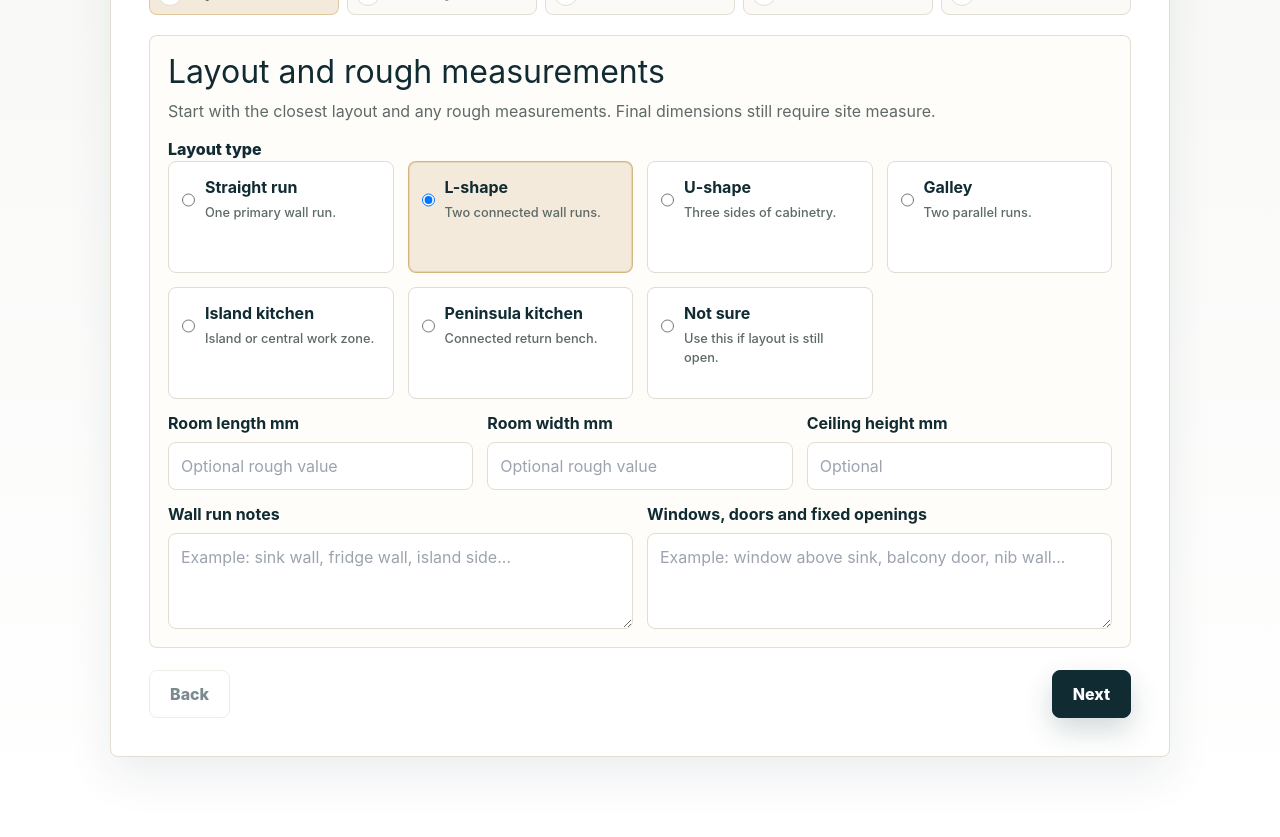
Scenario: ScopeBuilderPage › renders enabled local fields, validation and scope review output
Earlier steps of the test are not shown.
Later steps or results of the test are not shown.
(page scrolled)
Type "3400" into the field labelled "Room length mm" at (321, 466), box [168,442,473,490]
Type "2600" into the field labelled "Room width mm" at (640, 466), box [487,442,793,490]
Type "2400" into the field labelled "Ceiling height mm" at (959, 466), box [807,442,1112,490]
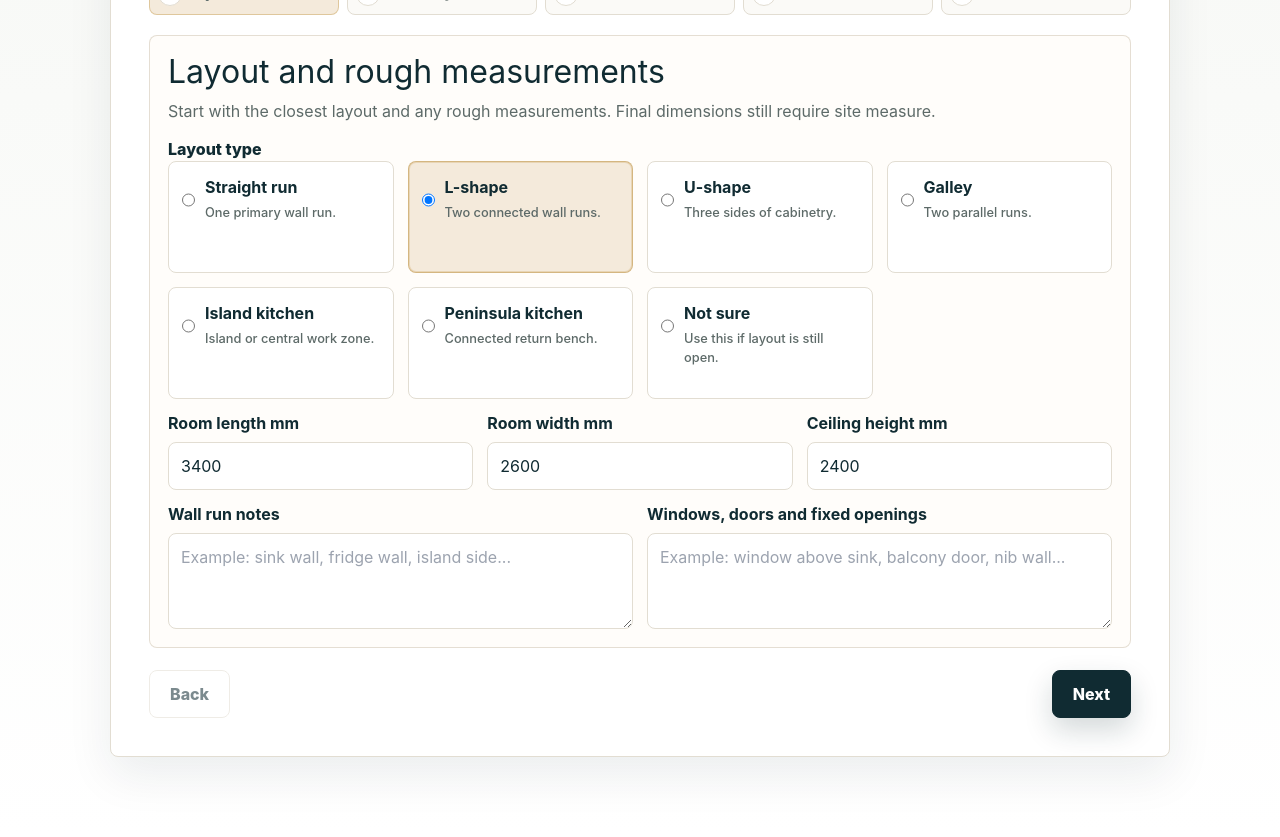
Type "Window above sink and doorway near fridge wall" into the text box labelled "Windows, doors and fixed openings" at (880, 581), box [647,533,1112,629]
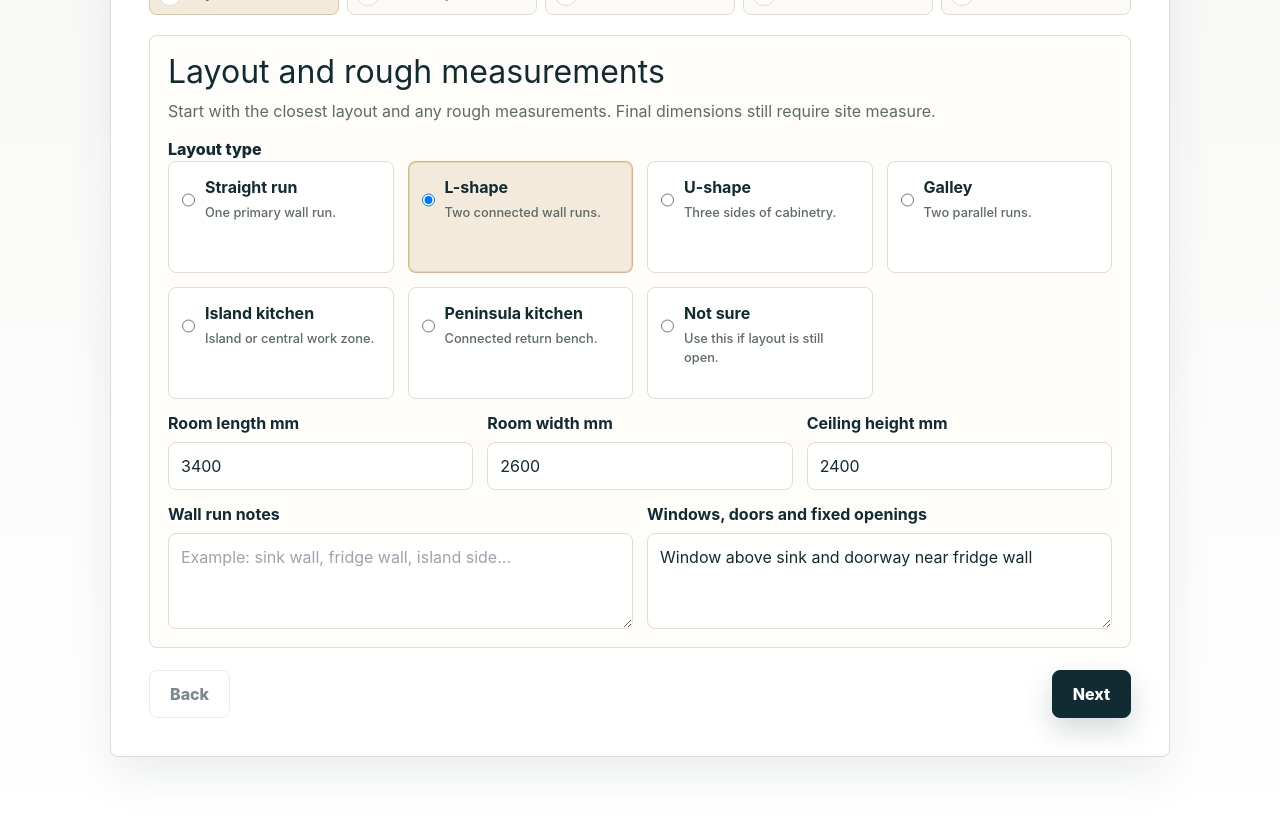
Click the button "Next" at (1091, 694), box [1052,670,1131,718]
(page scrolled)
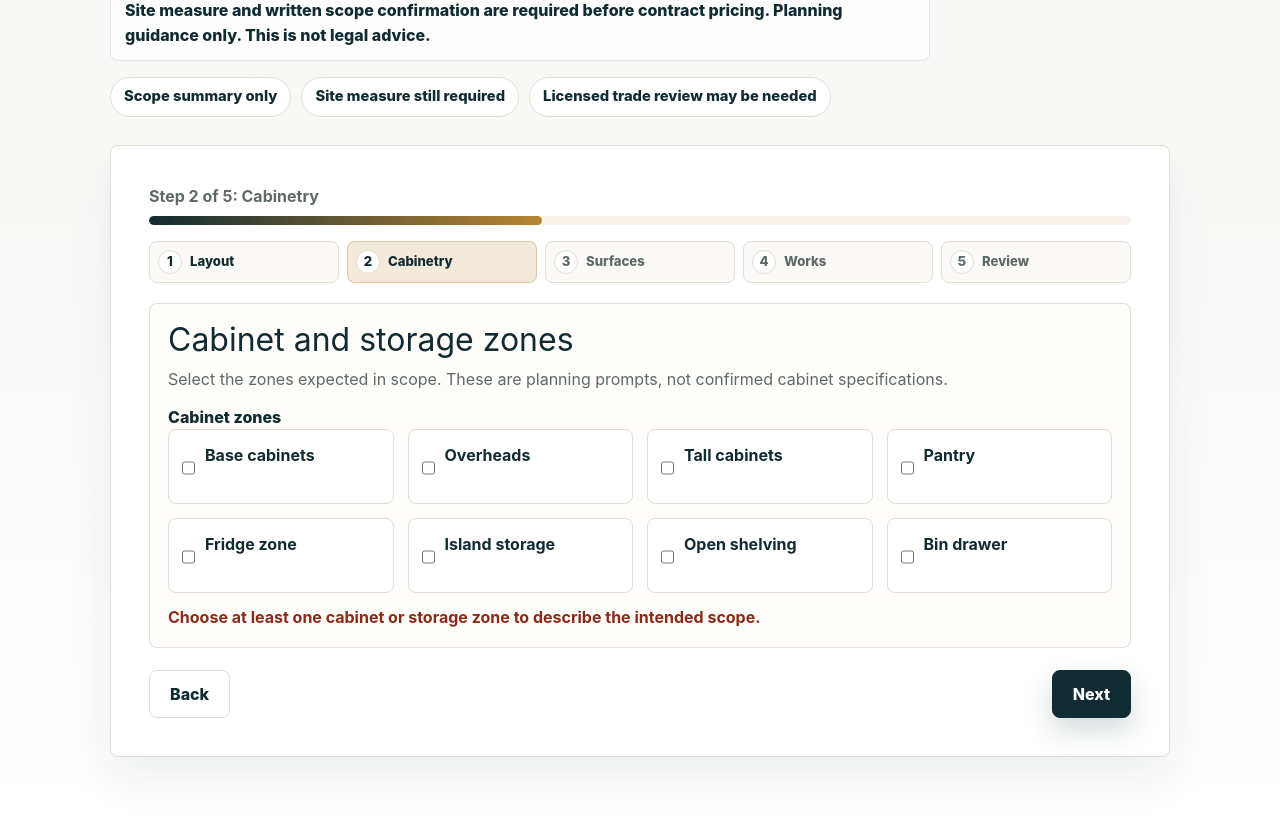
Expected: the heading "Cabinet and storage zones" is shown, [168,320,574,358]
Click the checkbox labelled "Base cabinets" at (188, 468), box [182,446,195,490]
(page scrolled)
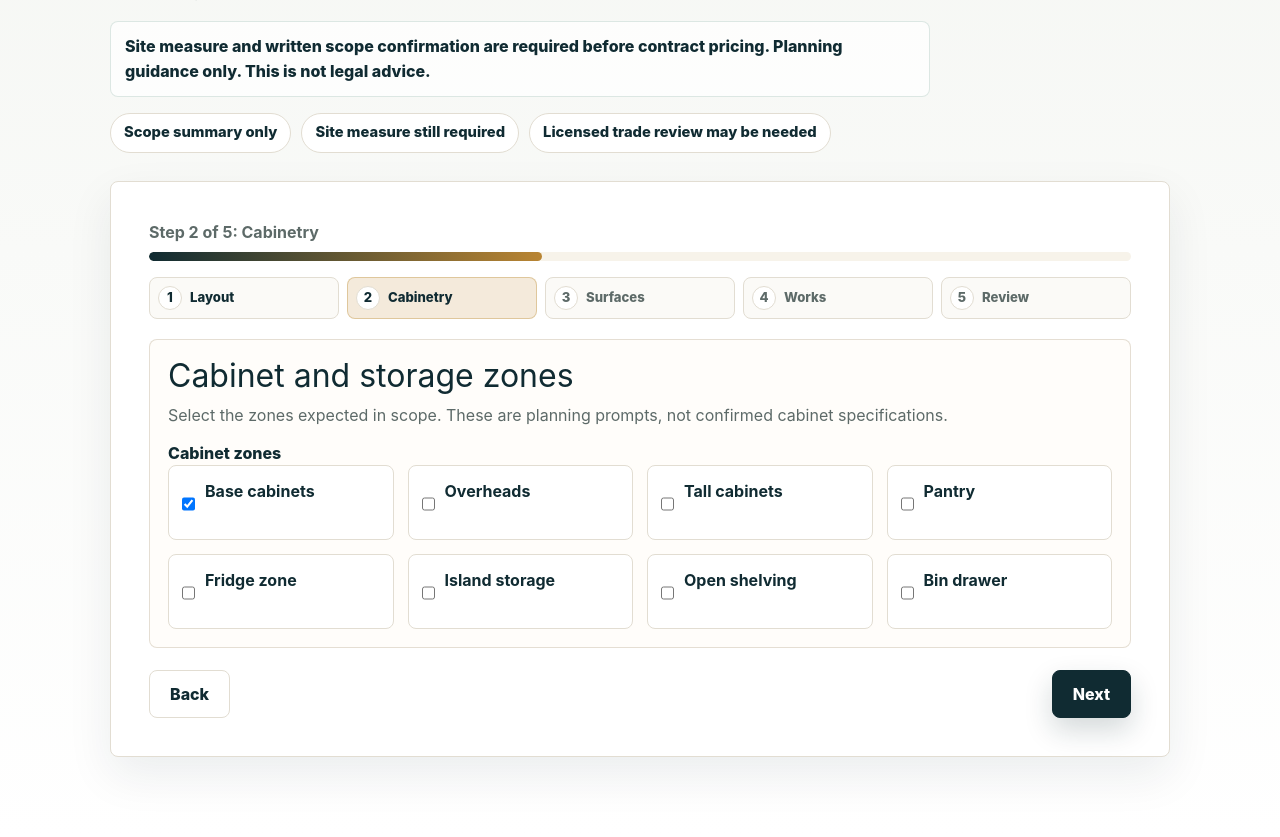
Click the checkbox labelled "Pantry" at (907, 504), box [900,482,914,526]
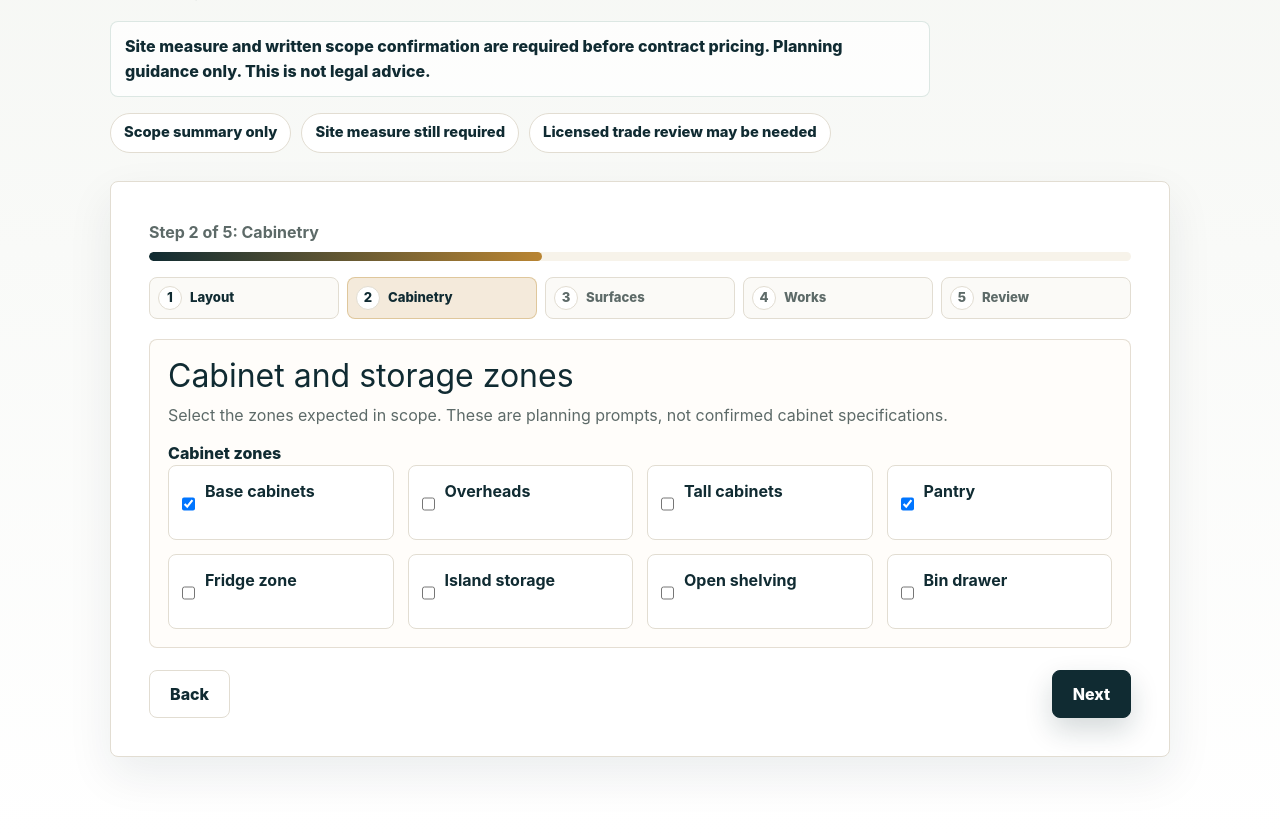
Click the button "Next" at (1091, 694), box [1052,670,1131,718]
(page scrolled)
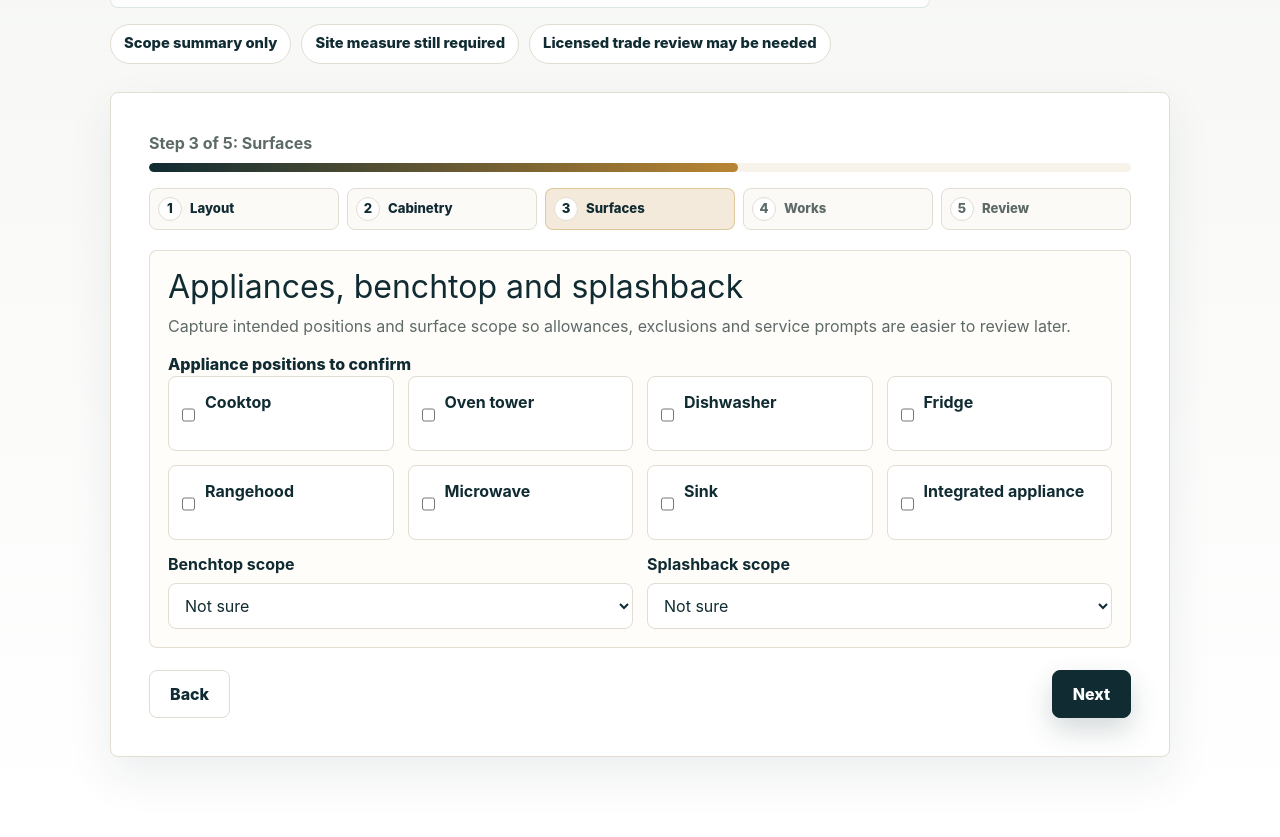
Expected: the heading "Appliances, benchtop and splashback" is shown, [168,266,743,306]
